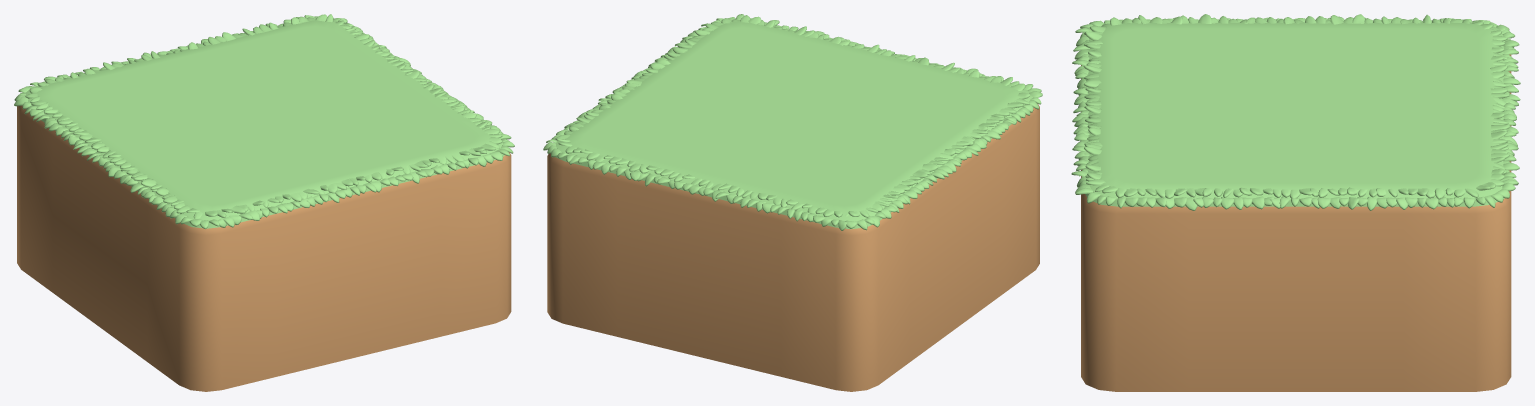
File: Cliffs_4x4.fbx
3 renders of one model, left to right at view 1: azimuth 30°, elevation 25°; view 2: azimuth 150°, elevation 25°; view 3: azimuth 270°, elevation 25°, orthographic. The views are drawn at different scales.
Parts seen in each view (by area): view 1: 4x4_Cliff, 4x4_Blades; view 2: 4x4_Cliff, 4x4_Blades; view 3: 4x4_Cliff, 4x4_Blades.
Part boxes in pixels (x1,y1,x2,y2): 4x4_Cliff: [17, 20, 511, 391]; 4x4_Blades: [14, 14, 514, 228]; 4x4_Cliff: [547, 20, 1039, 391]; 4x4_Blades: [543, 14, 1042, 230]; 4x4_Cliff: [1081, 22, 1511, 391]; 4x4_Blades: [1071, 14, 1520, 210].
Size of the model in its own units: 417 by 204 by 418.
